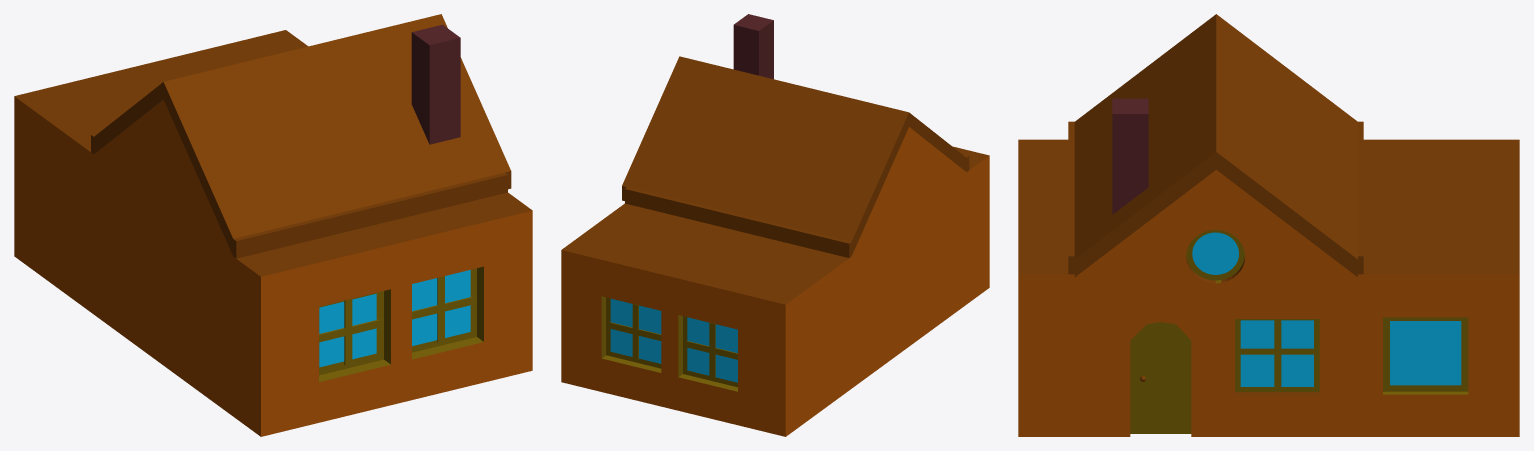
The model's file is Umber House 8.fbx.
3 renders of one model, left to right at view 1: azimuth 30°, elevation 25°; view 2: azimuth 150°, elevation 25°; view 3: azimuth 270°, elevation 25°, orthographic. The views are drawn at different scales.
Visible parts, largest first — view 1: Cube, Cube.002; view 2: Cube, Cube.002; view 3: Cube, Cube.002.
Part boxes in pixels (x1,y1,x2,y2): Cube: (14,14,532,436); Cube.002: (411,24,460,144); Cube: (561,56,989,436); Cube.002: (733,14,773,79); Cube: (1018,14,1519,436); Cube.002: (1112,98,1148,214).
Size of the model in its own units: 258 by 271 by 397.
